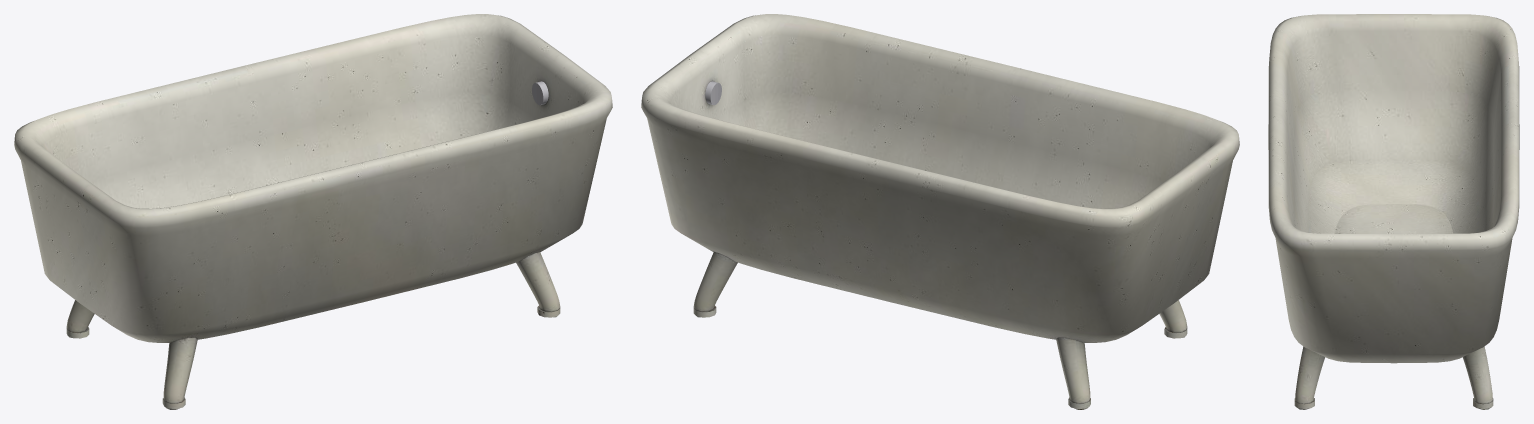
Rendered from bath_legs_web.glb.
The picture shows the model from 3 angles, left to right: view 1: azimuth 30°, elevation 25°; view 2: azimuth 150°, elevation 25°; view 3: azimuth 270°, elevation 25°; orthographic projection. The views are drawn at different scales.
Visible parts, largest first — view 1: BathLegs_Body; view 2: BathLegs_Body; view 3: BathLegs_Body.
Part boxes in pixels (x1,y1,x2,y2): BathLegs_Body: (14,14,612,409); BathLegs_Body: (641,14,1239,409); BathLegs_Body: (1268,14,1519,409).
Bounding box in the file's own units: 1.5 × 0.6115 × 0.704.
2 materials, 2 textured.
